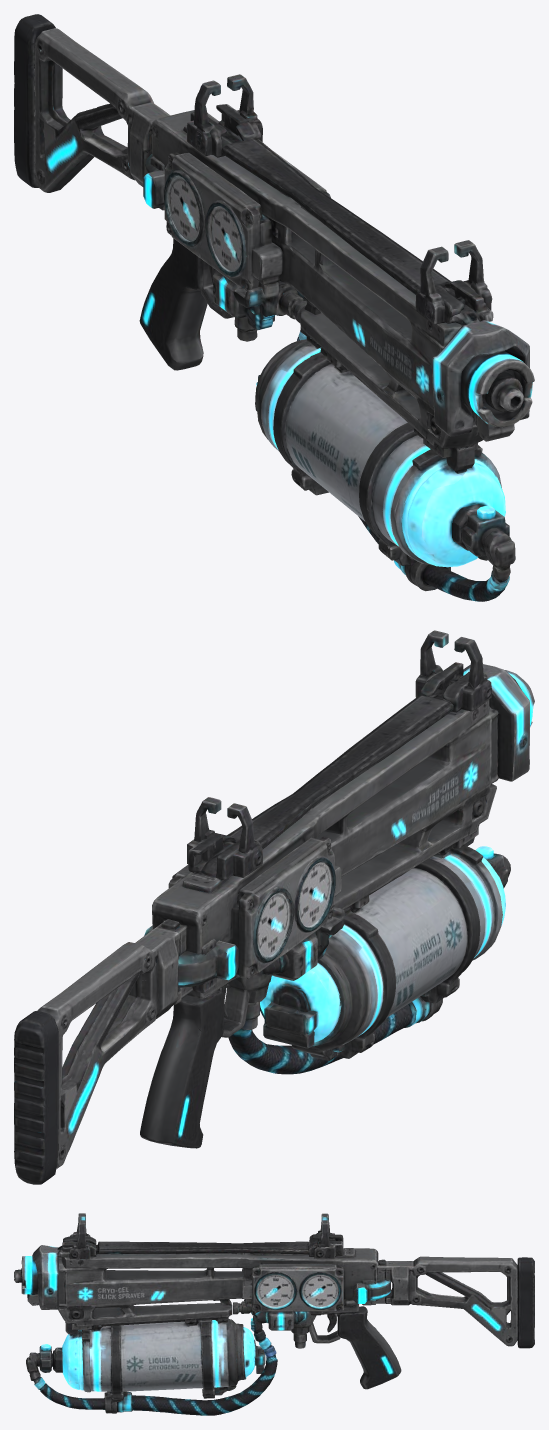
Rendered from cryo_slick_sprayer.medium.glb.
The picture shows the model from 3 angles, top to bottom: view 1: azimuth 30°, elevation 25°; view 2: azimuth 150°, elevation 25°; view 3: azimuth 270°, elevation 25°; orthographic projection. The views are drawn at different scales.
Parts seen in each view (by area): view 1: model; view 2: model; view 3: model.
Boxes of the visible parts, x1,y1,x2,y2 form: model: [14, 14, 534, 601]; model: [14, 630, 534, 1184]; model: [14, 1213, 534, 1415].
Size of the model in its own units: 0.1156 by 0.3481 by 0.8501.
Materials: 1 (1 with a texture image).
